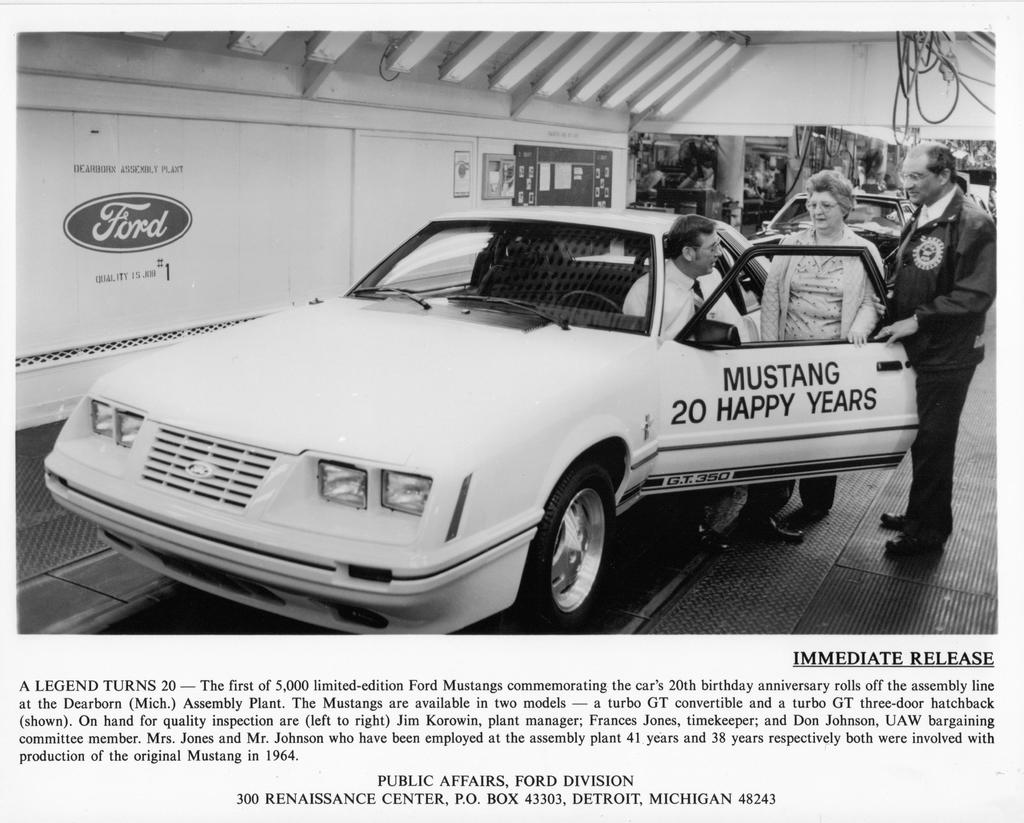Car: (32, 180, 947, 630), (747, 185, 911, 290)
